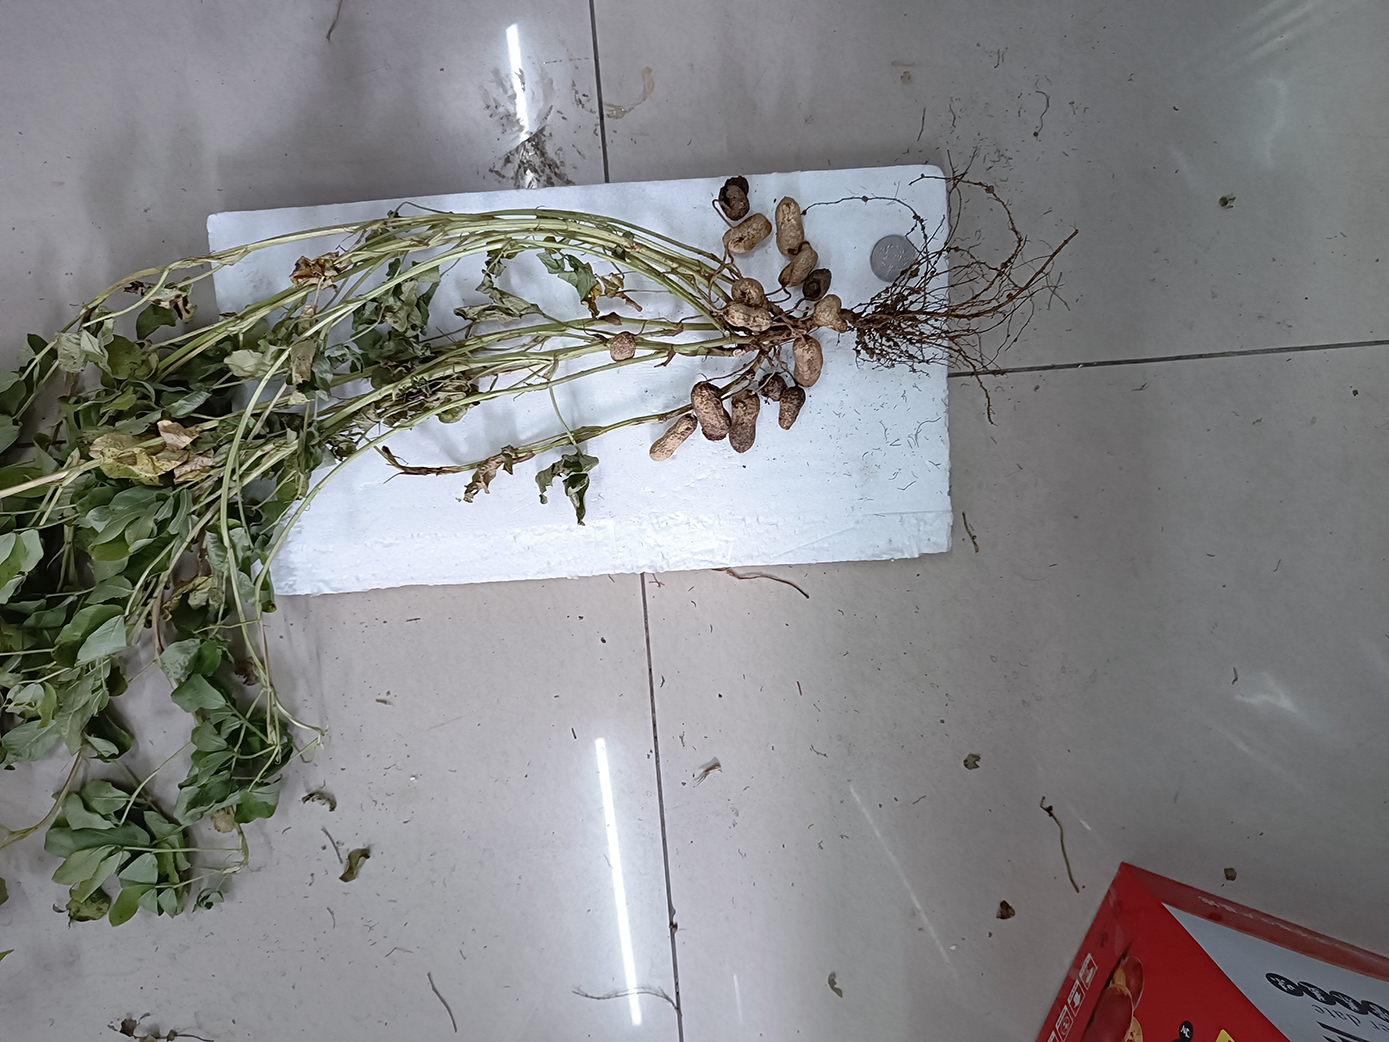h: (649, 415, 701, 460), (722, 213, 772, 254), (782, 241, 819, 288), (792, 335, 823, 387), (776, 196, 803, 253), (726, 299, 769, 331), (813, 292, 846, 333), (730, 279, 769, 308), (609, 331, 636, 362)
l: (691, 383, 732, 438), (730, 390, 759, 453), (718, 175, 749, 218), (777, 386, 805, 429), (803, 268, 832, 297), (757, 373, 786, 400)
